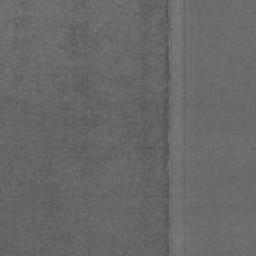Welding line: (163, 0, 172, 256)
